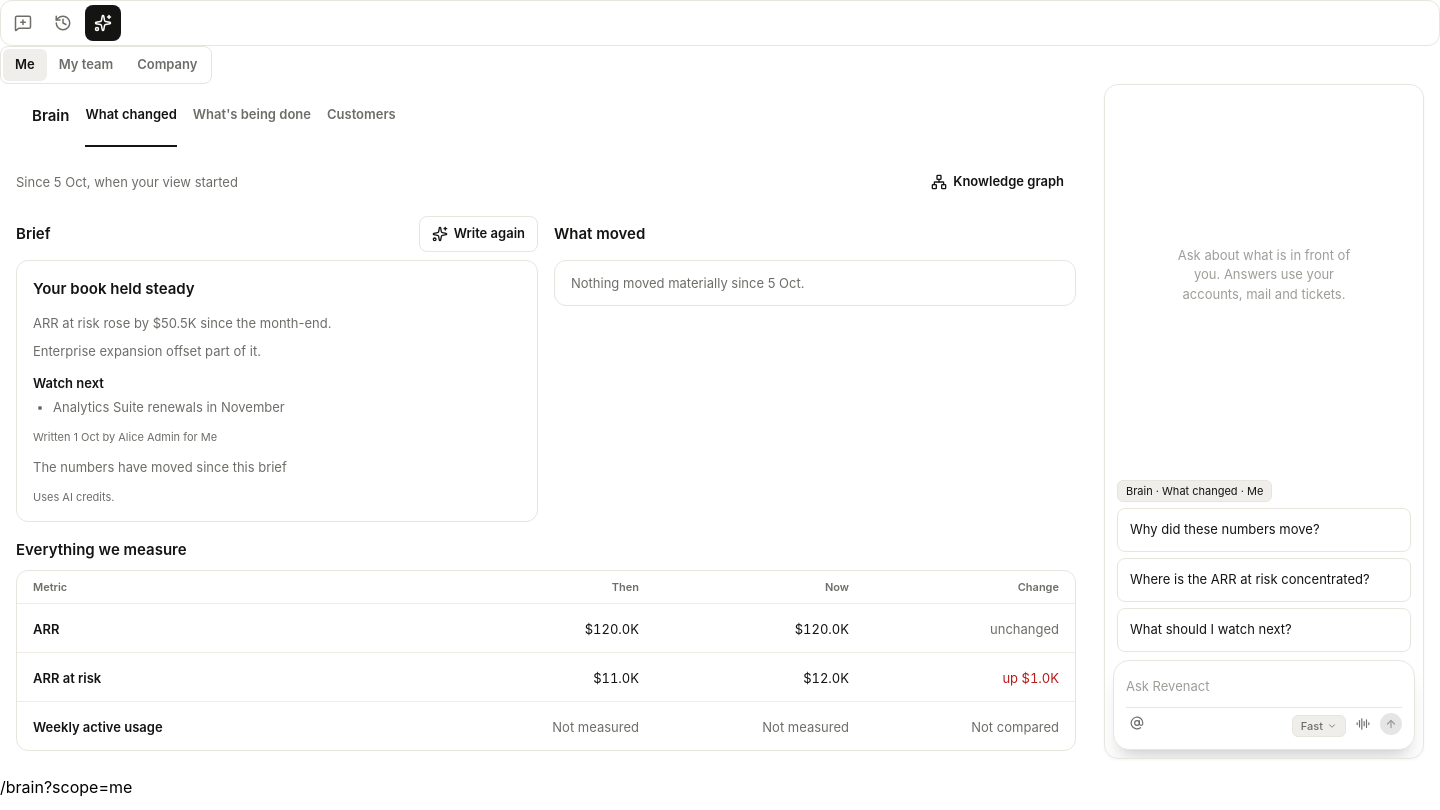
Test: History on the Brain (brain ask final review, Important 1) › picks a conversation from another Brain tab and scope, and reopens it on its own
The width and height of the screenshot is (1440, 810).
Expected: the element named "View" is shown, [0,46,212,84]
Click the button named "History".
click(63, 23)  # box [45,5,81,41]
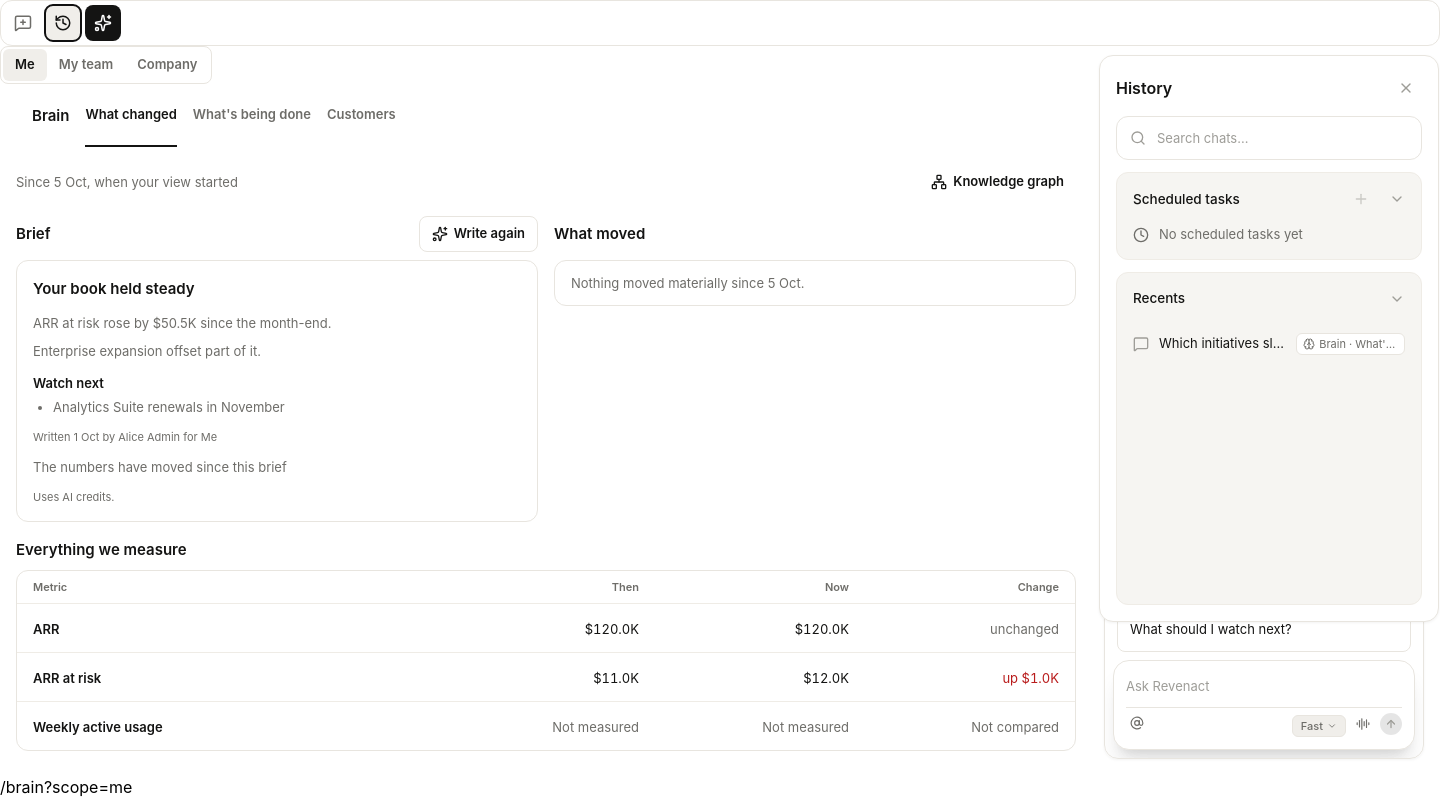
Click the button "Which initiatives slipped?".
click(1269, 344)  # box [1125,324,1413,363]
(page scrolled)
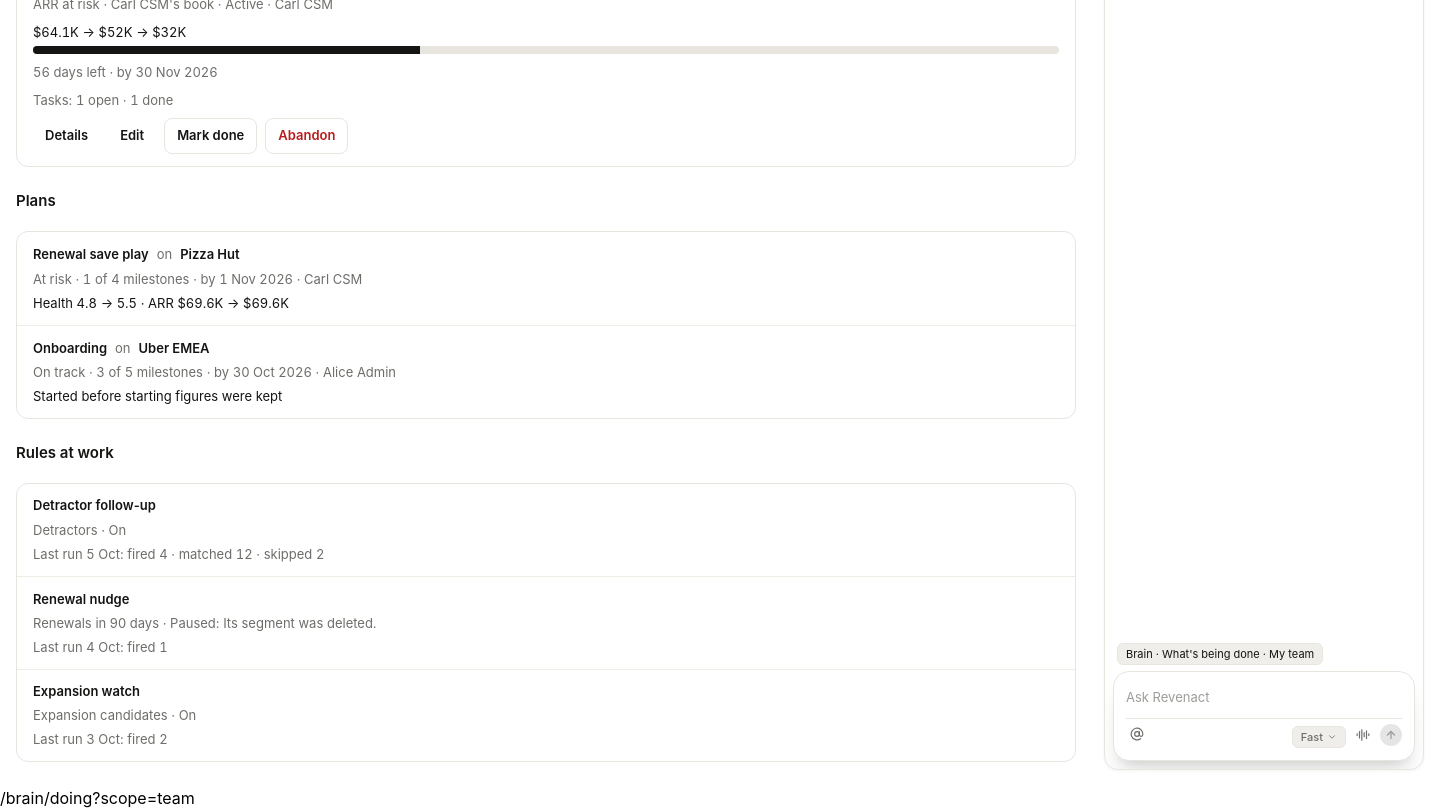
Expected: the text with test id "where" reads "/brain/doing?scope=team", [0,788,195,808]
Type "Which first?" into the field with placeholder "Ask Revenact".
click(1264, 698); type("Which first?")  # box [1126,686,1402,710]
Then press Enter
(page scrolled)
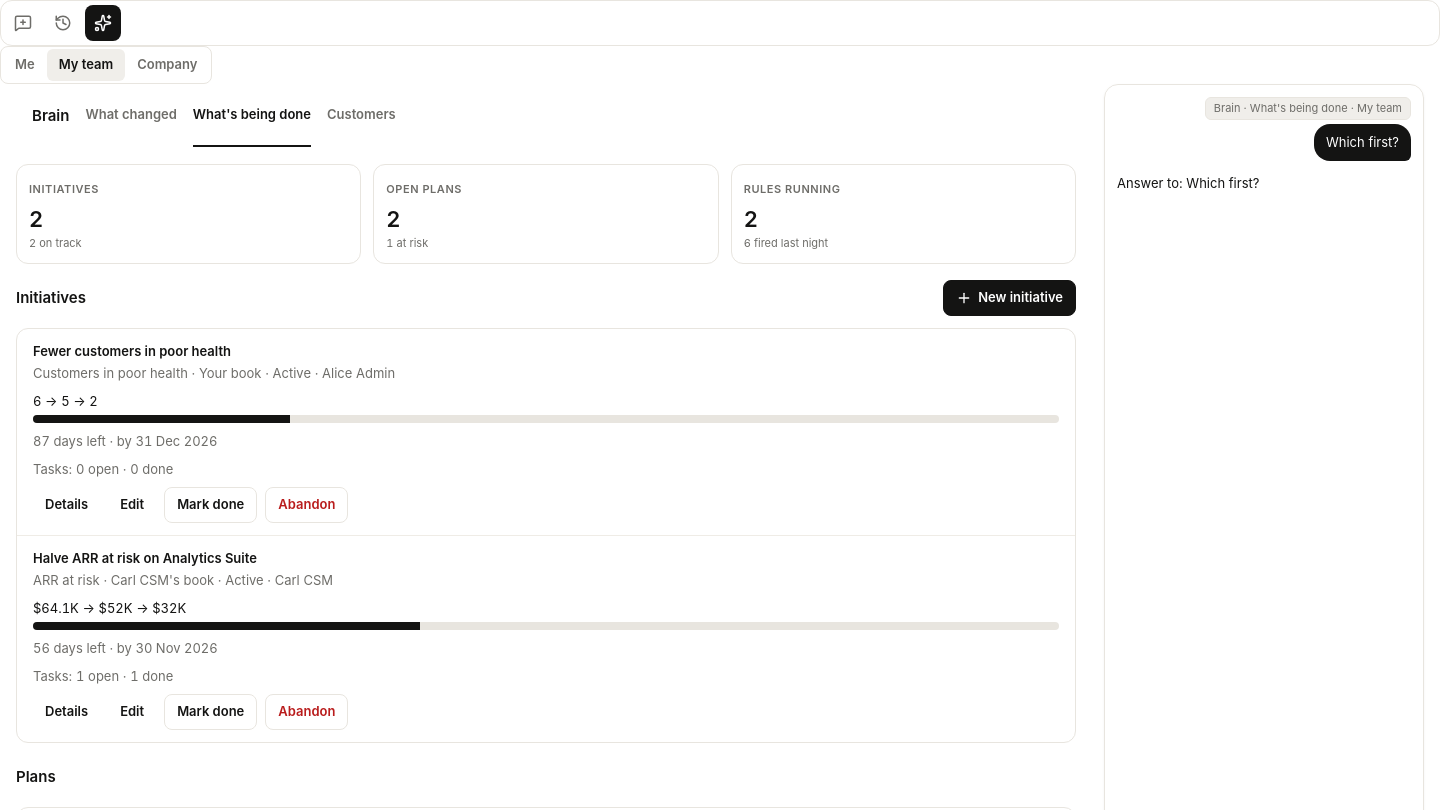
Expected: the text "Answer to: Which first?" is shown, [1117,173,1259,194]
